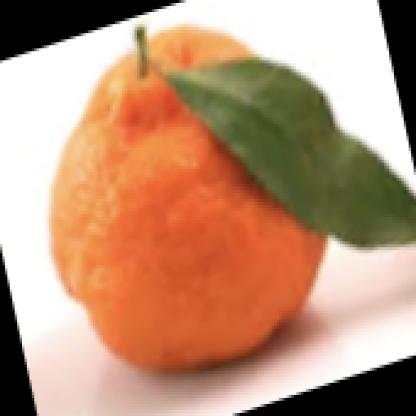fresh: (53, 29, 327, 373)
